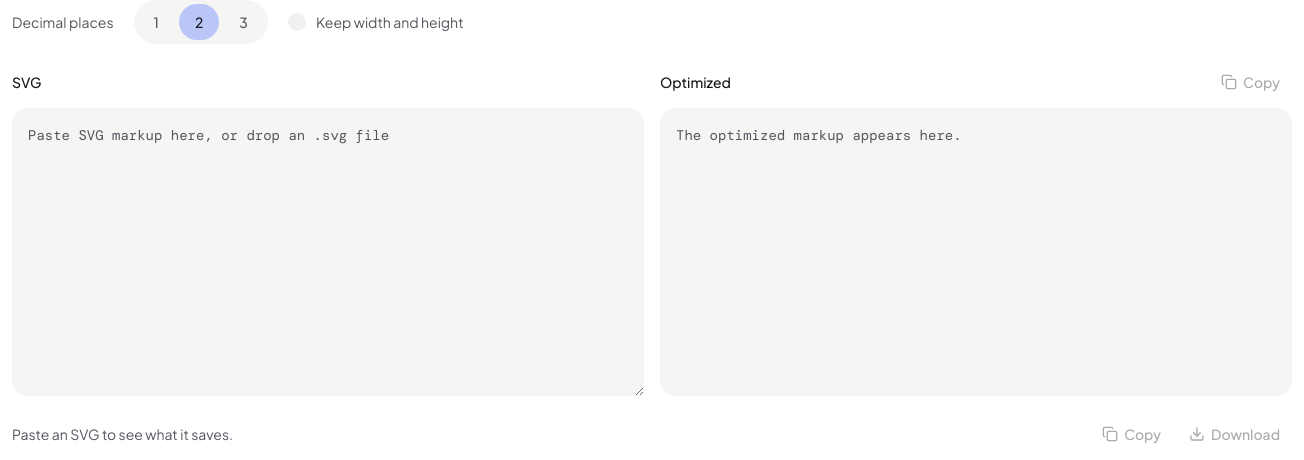
Test: <SvgOptimizerTool /> › should explain markup that is not an SVG
Click the text box with placeholder "Paste SVG markup here, or drop an .svg file" at (328, 252), box [12,108,644,396]
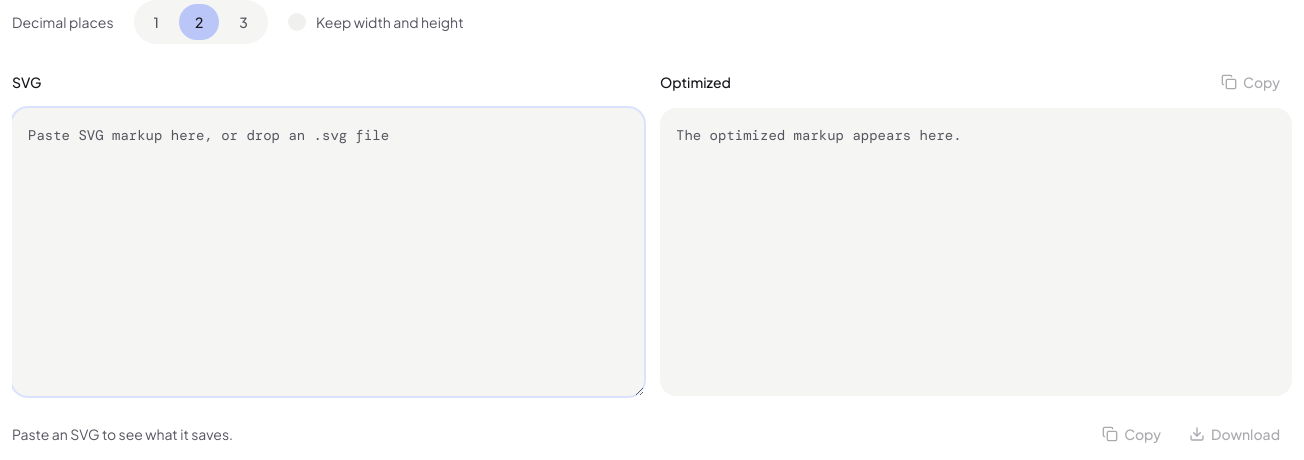
Type keys "just some words"
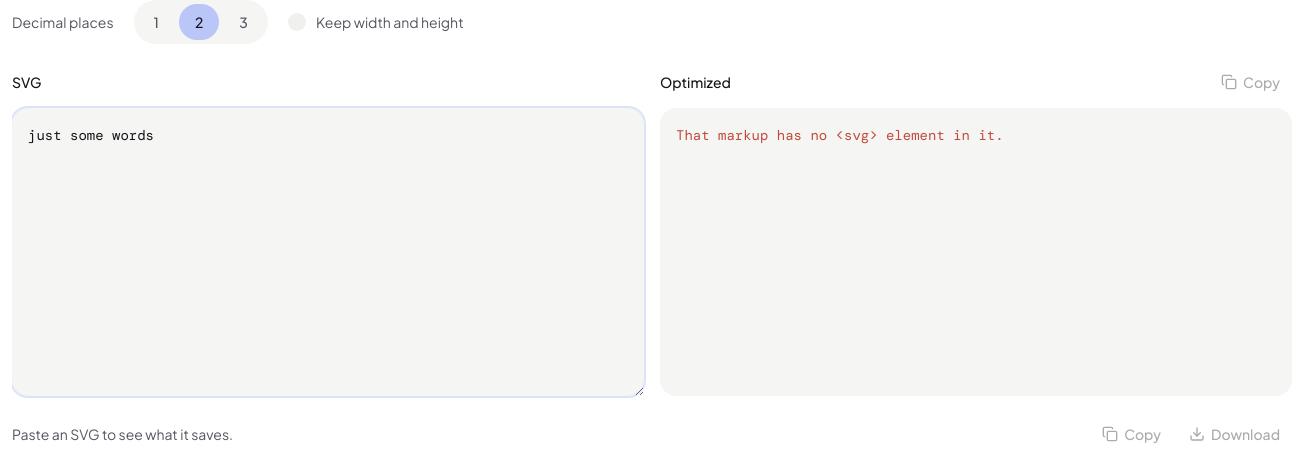
Expected: the text "That markup has no <svg> element in it." is shown, [676,126,1004,144]
